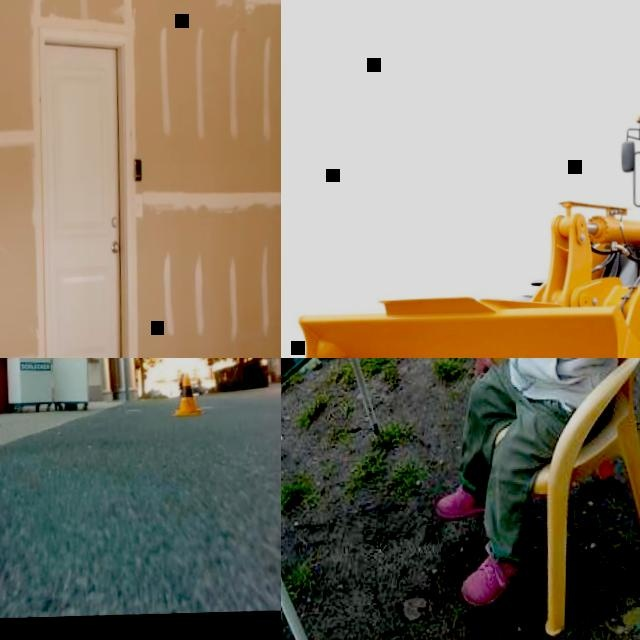NO-Safety Vest: (499, 358, 613, 399)
Person: (418, 358, 634, 612)
Safety Cone: (172, 373, 205, 415)
machinery: (281, 77, 640, 358)
